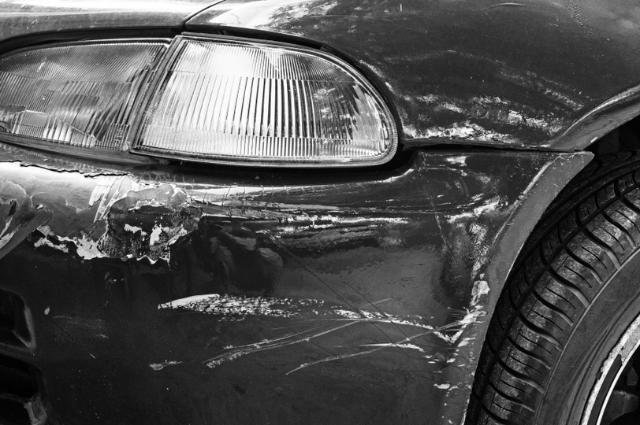Bumper: (0, 144, 593, 424)
